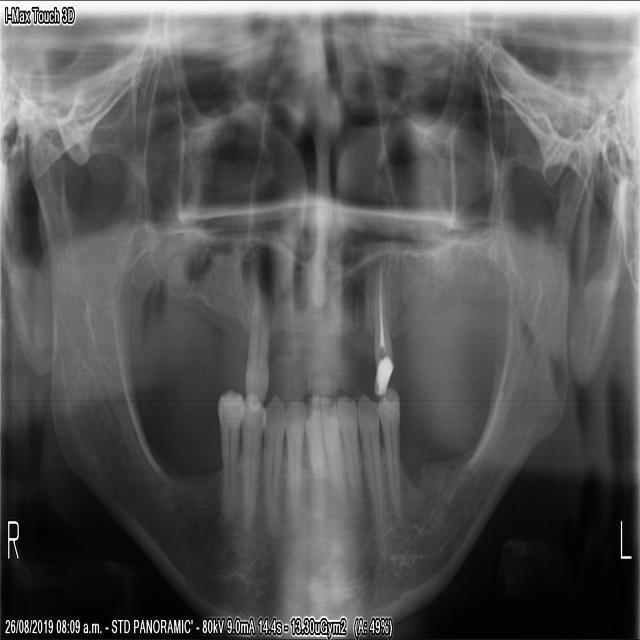LCD: (354, 386, 386, 538)
LCU: (369, 250, 396, 399)
LID: (315, 389, 348, 523), (334, 389, 363, 516)
LPMD: (374, 378, 405, 533)
RCD: (258, 386, 287, 530)
RCU: (241, 271, 271, 418)
RID: (301, 387, 325, 519), (282, 395, 306, 523)
RPMD: (238, 387, 267, 540), (214, 381, 244, 521)
